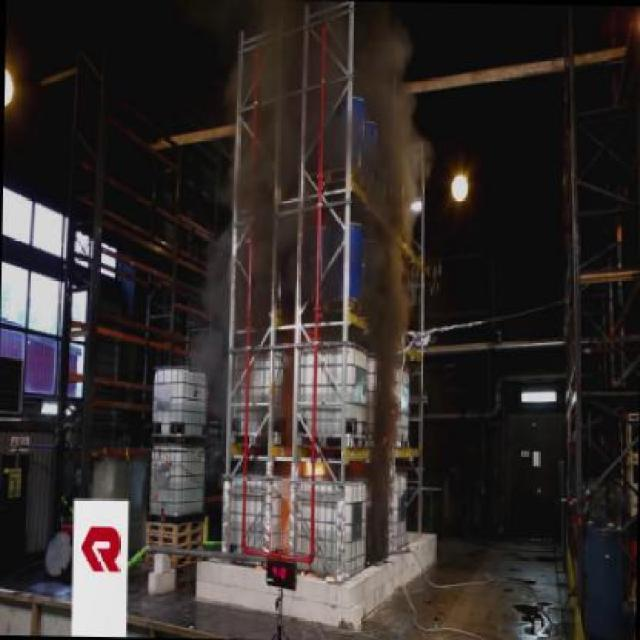fire: (358, 7, 436, 444), (184, 0, 258, 423)
